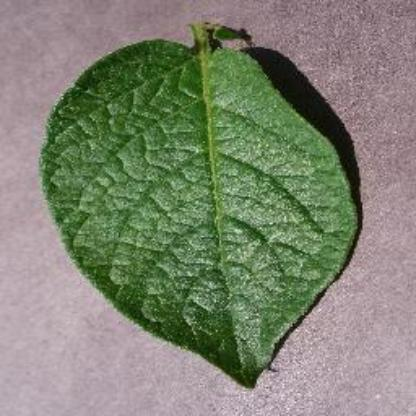Healthy-plant: (32, 8, 380, 396)
